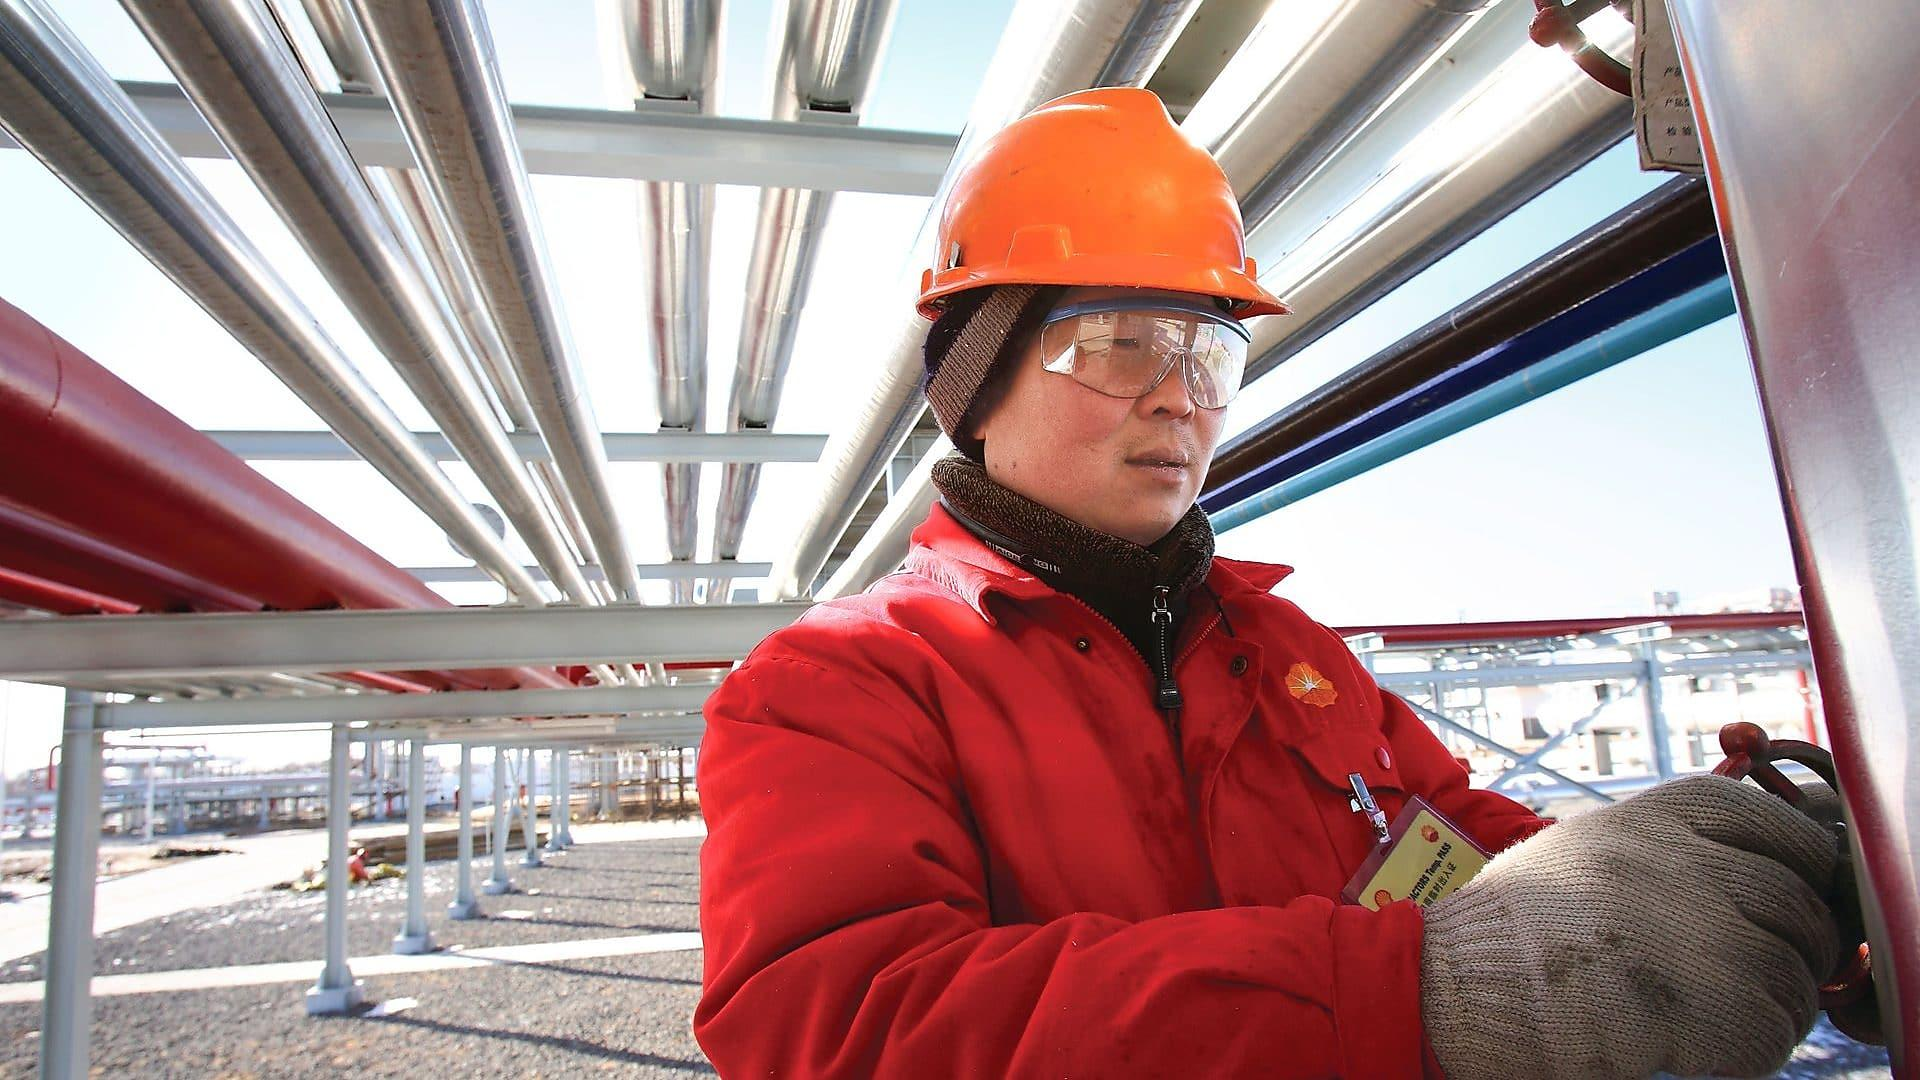helmet: (919, 87, 1282, 319)
